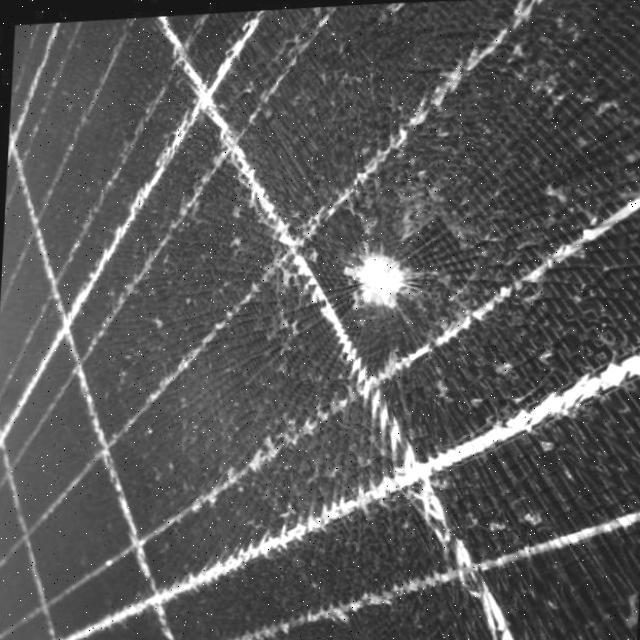Anomaly Solar Panel: (0, 0, 640, 640)
Structural Damage: (240, 111, 494, 447)
